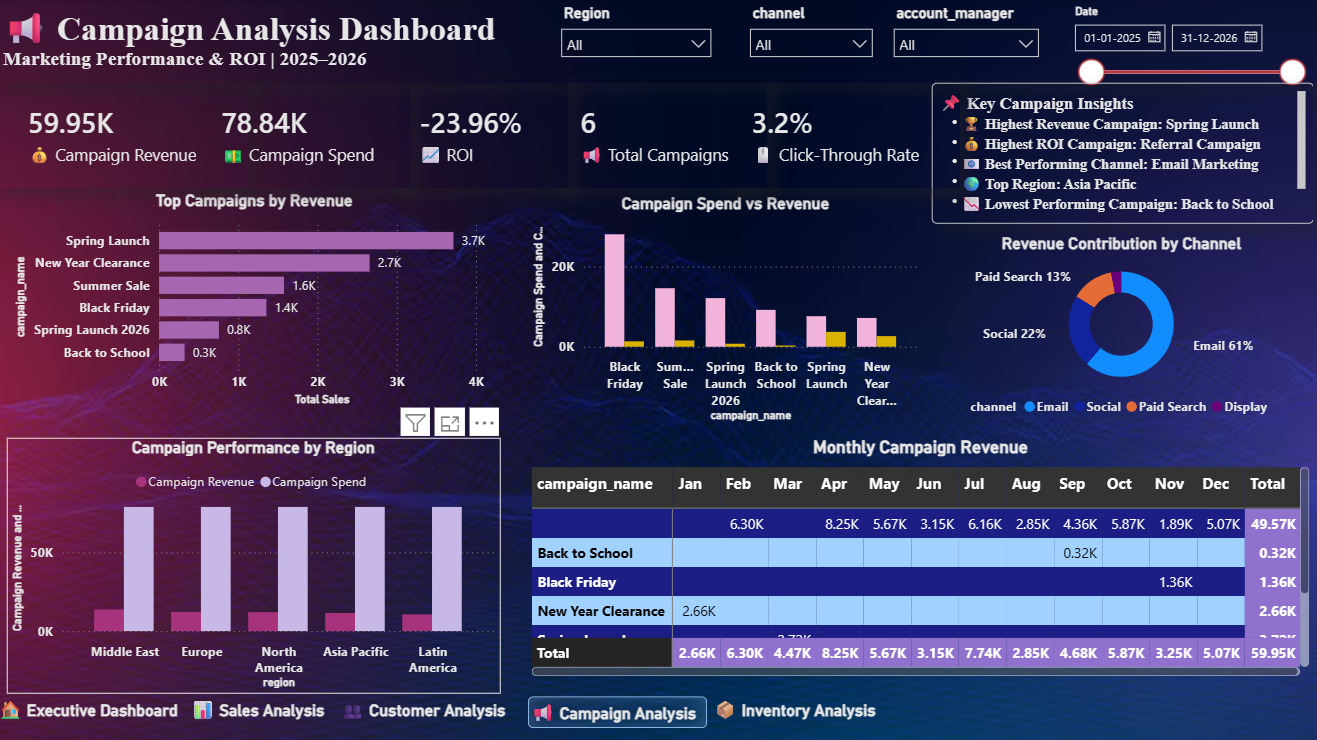

The page's visual inventory and layout, read from the dashboard file:
{"tool":"powerbi","page":{"name":"Campaign Analysis","canvas":[1280,720],"ordinal":3},"visuals":[{"type":"textbox","box":[0,0,1280,80.8],"z":0},{"type":"cardVisual","fields":{"Data":["_measures.Campaign Revenue"]},"box":[0,78.2,240.1,104.3],"z":1000},{"type":"clusteredColumnChart","title":"Campaign Spend vs Revenue","fields":{"Y":["_measures.Campaign Spend","_measures.Campaign Revenue"],"Category":["dim_campaign.campaign_name"]},"box":[511,187.7,381.1,224.4],"z":2000},{"type":"clusteredBarChart","title":"Top Campaigns by Revenue","fields":{"Y":["_measures.Total Sales"],"Category":["dim_campaign.campaign_name"]},"box":[11.3,186.3,472.9,211.7],"z":3000},{"type":"slicer","fields":{"Values":["dim_date.Date"]},"box":[1026.7,0,243.7,89.3],"z":4000},{"type":"slicer","fields":{"Values":["dim_geo.region"]},"box":[533.2,0,165.3,62.7],"z":5000},{"type":"slicer","fields":{"Values":["dim_campaign.channel"]},"box":[715.4,0,138.7,62.7],"z":6000},{"type":"slicer","fields":{"Values":["dim_customer.account_manager"]},"box":[854.2,0,160.5,62.7],"z":7000},{"type":"cardVisual","fields":{"Data":["_measures.Campaign Spend"]},"box":[186.6,78.2,211.3,104.3],"z":8000},{"type":"cardVisual","fields":{"Data":["_measures.ROI"]},"box":[377.4,78.2,172.9,104.3],"z":9000},{"type":"cardVisual","fields":{"Data":["_measures.Total Campaigns"]},"box":[533.8,78.2,208.6,104.3],"z":10000},{"type":"donutChart","title":"Revenue Contribution by Channel","fields":{"Y":["_measures.Total Sales"],"Category":["dim_campaign.channel"]},"box":[892.1,227.3,385.4,184.9],"z":11000},{"type":"textbox","box":[901.5,81,369.1,135.8],"z":12000},{"type":"actionButton","title":"📊 Sales Analysis","box":[186.3,673.3,153.7,28.8],"z":13000},{"type":"actionButton","title":"👥 Customer Analysis","box":[330.3,673.3,171.5,28.8],"z":14000},{"type":"actionButton","title":"📢 Campaign Analysis","box":[511,673.3,172.9,30.2],"z":15000},{"type":"actionButton","title":"📦 Inventory Analysis","box":[690.3,673.3,179.8,28.8],"z":16000},{"type":"actionButton","title":"🏠 Executive Dashboard","box":[0,673.3,190.7,28.8],"z":17000},{"type":"clusteredColumnChart","title":"Campaign Performance by Region","fields":{"Category":["dim_geo.region"],"Y":["_measures.Campaign Revenue","_measures.Campaign Spend"]},"box":[8.2,424,476.2,247],"z":18000},{"type":"pivotTable","title":"Monthly Campaign Revenue","fields":{"Columns":["dim_date.Month Name"],"Rows":["dim_campaign.campaign_name"],"Values":["_measures.Campaign Revenue"]},"box":[510.5,422.6,760.2,236],"z":19000},{"type":"cardVisual","fields":{"Data":["_measures.CTR"]},"box":[698.5,78.2,230.5,104.3],"z":20000}]}

Visuals, with their boxes in screenshot pixels (x1, y1, x2, y2), scaled from the page's 1280x720 canvas onto the 1317x740 screenshot:
textbox: bbox=(0, 0, 1316, 83)
cardVisual - _measures.Campaign Revenue: bbox=(0, 80, 247, 188)
"Campaign Spend vs Revenue" clusteredColumnChart: bbox=(526, 193, 918, 424)
"Top Campaigns by Revenue" clusteredBarChart: bbox=(12, 191, 498, 409)
slicer - dim_date.Date: bbox=(1056, 0, 1307, 92)
slicer - dim_geo.region: bbox=(549, 0, 719, 64)
slicer - dim_campaign.channel: bbox=(736, 0, 879, 64)
slicer - dim_customer.account_manager: bbox=(879, 0, 1044, 64)
cardVisual - _measures.Campaign Spend: bbox=(192, 80, 409, 188)
cardVisual - _measures.ROI: bbox=(388, 80, 566, 188)
cardVisual - _measures.Total Campaigns: bbox=(549, 80, 764, 188)
"Revenue Contribution by Channel" donutChart: bbox=(918, 234, 1314, 424)
textbox: bbox=(928, 83, 1307, 223)
"📊 Sales Analysis" actionButton: bbox=(192, 692, 350, 722)
"👥 Customer Analysis" actionButton: bbox=(340, 692, 516, 722)
"📢 Campaign Analysis" actionButton: bbox=(526, 692, 704, 723)
"📦 Inventory Analysis" actionButton: bbox=(710, 692, 895, 722)
"🏠 Executive Dashboard" actionButton: bbox=(0, 692, 196, 722)
"Campaign Performance by Region" clusteredColumnChart: bbox=(8, 436, 498, 690)
"Monthly Campaign Revenue" pivotTable: bbox=(525, 434, 1307, 677)
cardVisual - _measures.CTR: bbox=(719, 80, 956, 188)
